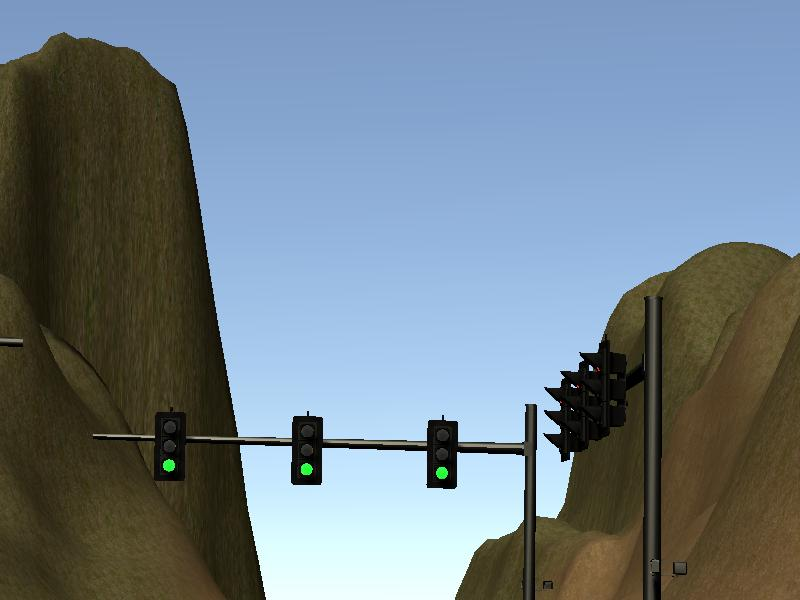Green: (293, 416, 322, 487), (155, 413, 184, 482), (429, 418, 454, 490)
